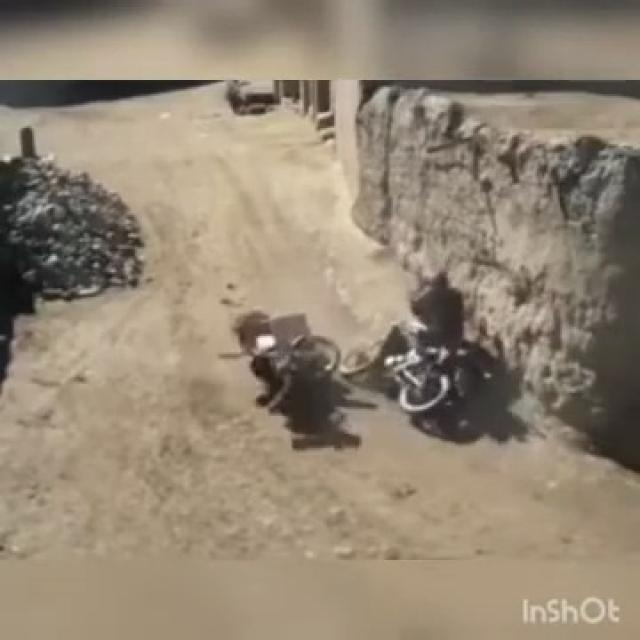accident: (359, 264, 478, 436), (222, 285, 355, 423)
